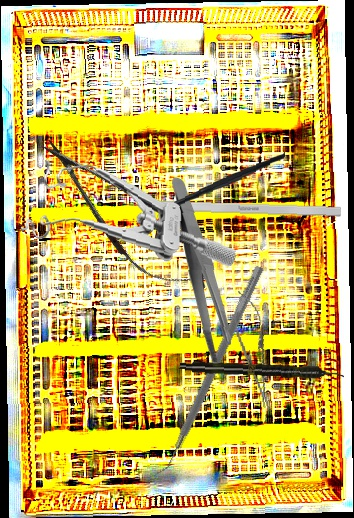Chopper: (152, 152, 289, 222)
Dressing Forceps: (168, 176, 235, 364)
Handpiece: (179, 359, 345, 382)
Hook Surgical: (109, 197, 342, 218)
Micro Scissor: (22, 118, 228, 312)
Needle Holder: (227, 287, 280, 413)
Spatula Surgical: (151, 260, 265, 482)
Speculum: (18, 157, 242, 268)
